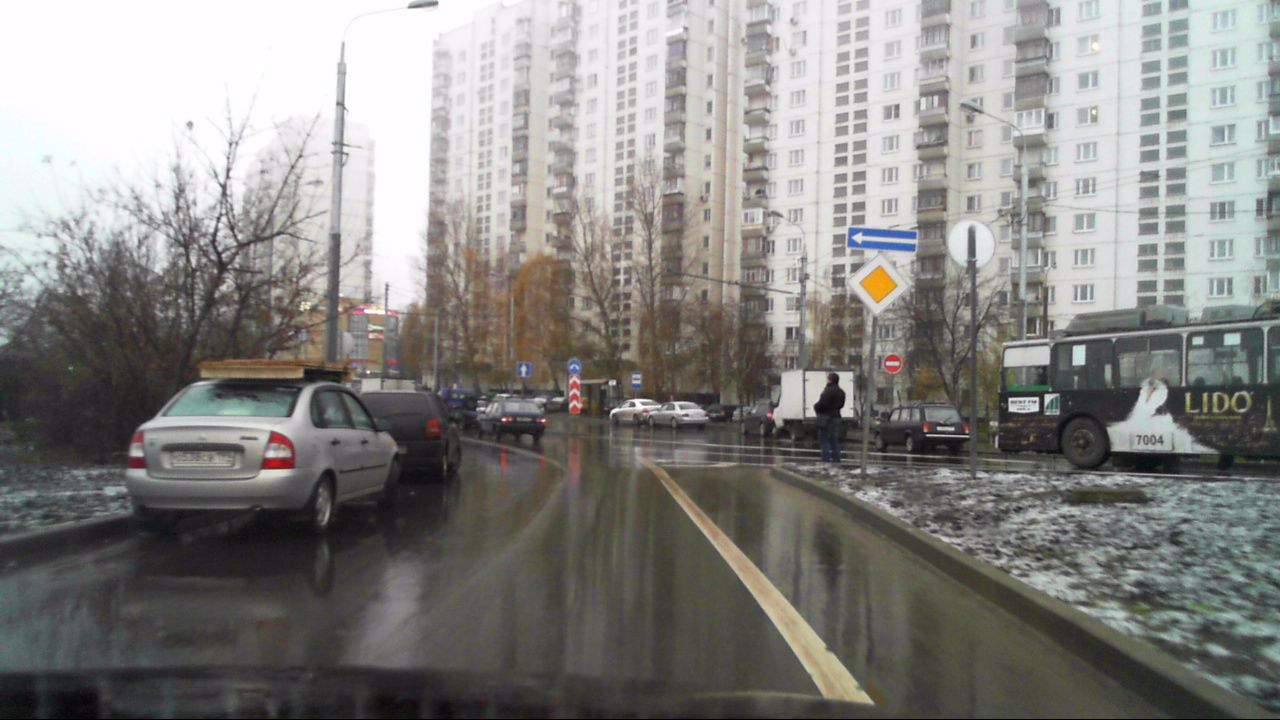One-Way Traffic: (848, 226, 918, 251)
